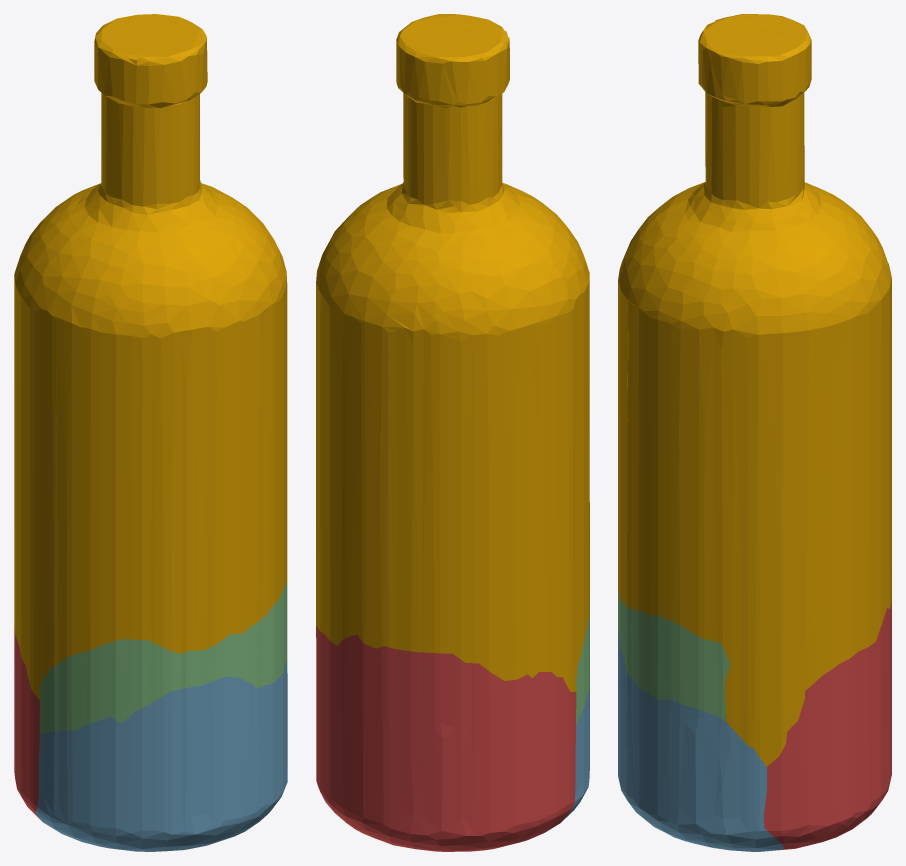
The model's file is mode_4_4pcs.glb.
3 views of the same model, side by side, from view 1: azimuth 30°, elevation 25°; view 2: azimuth 150°, elevation 25°; view 3: azimuth 270°, elevation 25° (orthographic).
Parts seen in each view (by area): view 1: piece_0.obj, piece_2.obj, piece_3.obj, piece_1.obj; view 2: piece_0.obj, piece_1.obj, piece_2.obj, piece_3.obj; view 3: piece_0.obj, piece_2.obj, piece_1.obj, piece_3.obj.
Part boxes in pixels (x1,y1,x2,y2): piece_0.obj: (14,14,287,699); piece_2.obj: (35,659,287,851); piece_3.obj: (39,581,287,734); piece_1.obj: (14,627,40,819); piece_0.obj: (316,14,589,691); piece_1.obj: (316,626,576,851); piece_2.obj: (557,670,589,824); piece_3.obj: (576,596,589,725); piece_0.obj: (618,14,891,766); piece_2.obj: (618,630,783,851); piece_1.obj: (764,600,891,850); piece_3.obj: (618,592,729,720).
Bounding box in the file's own units: 0.3203 × 1 × 0.3202.
